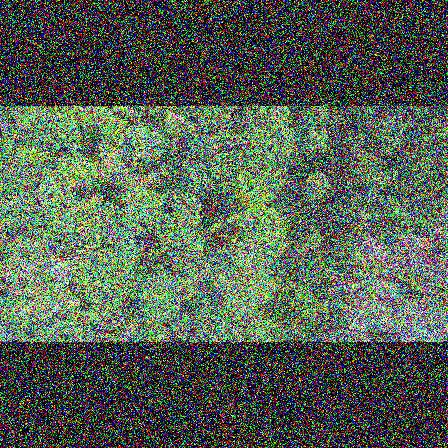Dead: (338, 283, 384, 314), (348, 304, 391, 334), (332, 298, 369, 327), (0, 115, 32, 148), (394, 313, 430, 335), (46, 262, 83, 280), (385, 247, 427, 262), (351, 231, 379, 245), (347, 324, 368, 342), (401, 329, 430, 342), (418, 227, 448, 238), (432, 270, 448, 284)
